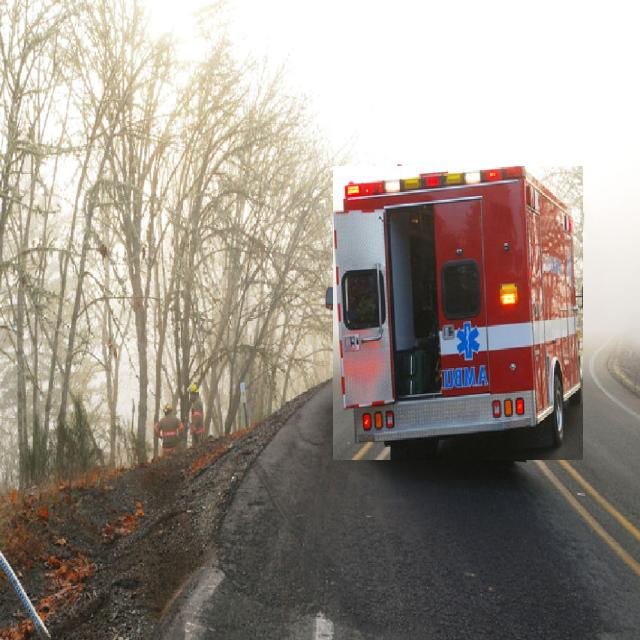emergency: (334, 167, 583, 460)
